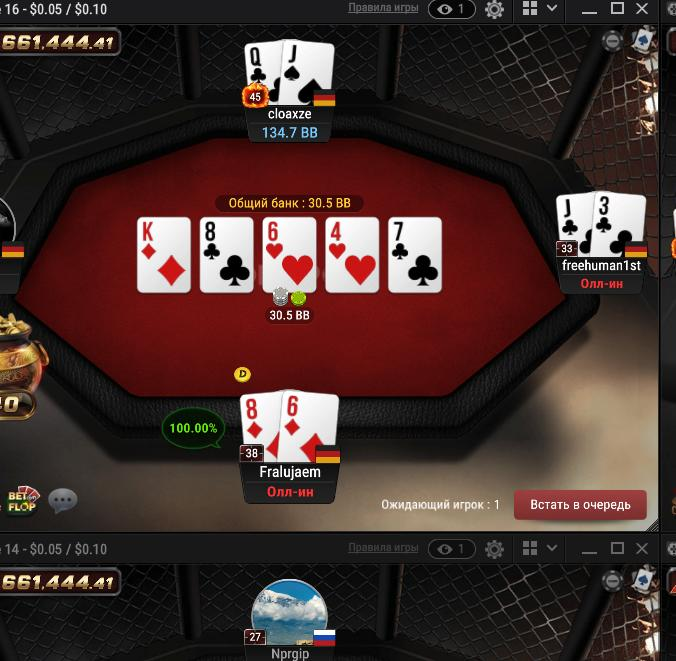3c: (593, 193, 644, 259)
4h: (324, 216, 380, 292)
6d: (281, 391, 337, 466)
6h: (263, 217, 315, 294)
7c: (388, 219, 441, 290)
8c: (201, 218, 252, 292)
8d: (239, 392, 280, 461)
Jc: (556, 193, 593, 256)
Js: (282, 37, 333, 105)
Kd: (136, 219, 189, 291)
Qc: (244, 42, 282, 104)
